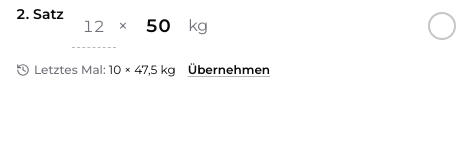
Test: ExerciseSetRow Übernehmen only while it can fill something › never overwrites a recorded value
This screenshot has width=473, height=160.
Click the button with aria-label "Übernehmen für Satz 2:": x=229, y=70 [184,48,274,92]
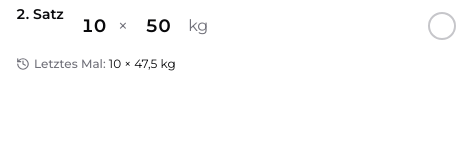
Expected: the 2nd field named "Gewicht für Satz 2 in kg" holds "50", [130,4,186,48]
Now the 1st field named "Wiederholungen für Satz 2" holds "10", box [72,4,116,48]
